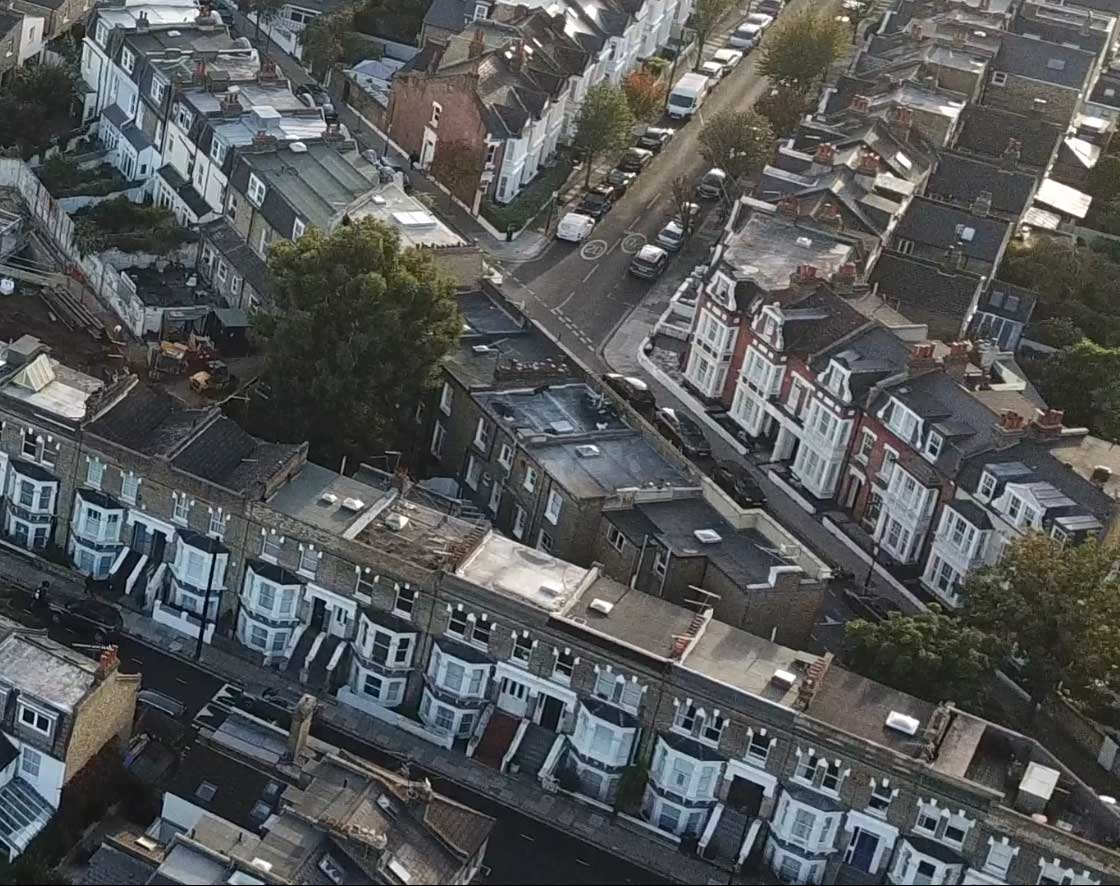tree: (239, 208, 473, 462)
